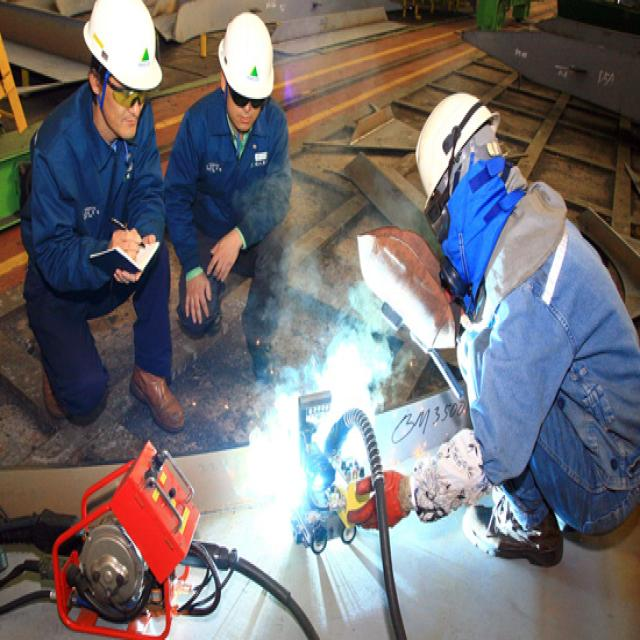welding: (266, 438, 302, 502), (285, 464, 304, 502), (315, 474, 323, 490)
